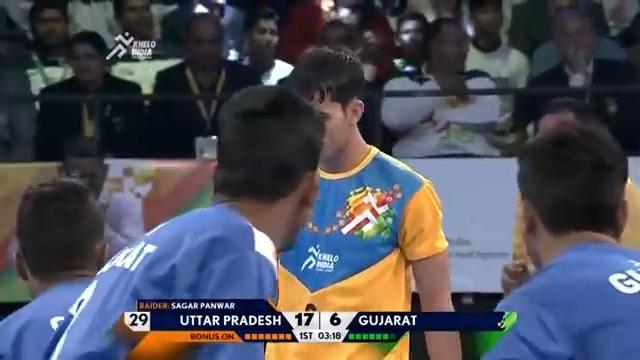Player: (46, 84, 325, 359), (479, 118, 639, 358), (0, 178, 108, 358)
Raider: (265, 44, 463, 359)
referee: (509, 1, 638, 154), (149, 11, 262, 158), (32, 30, 143, 160)
